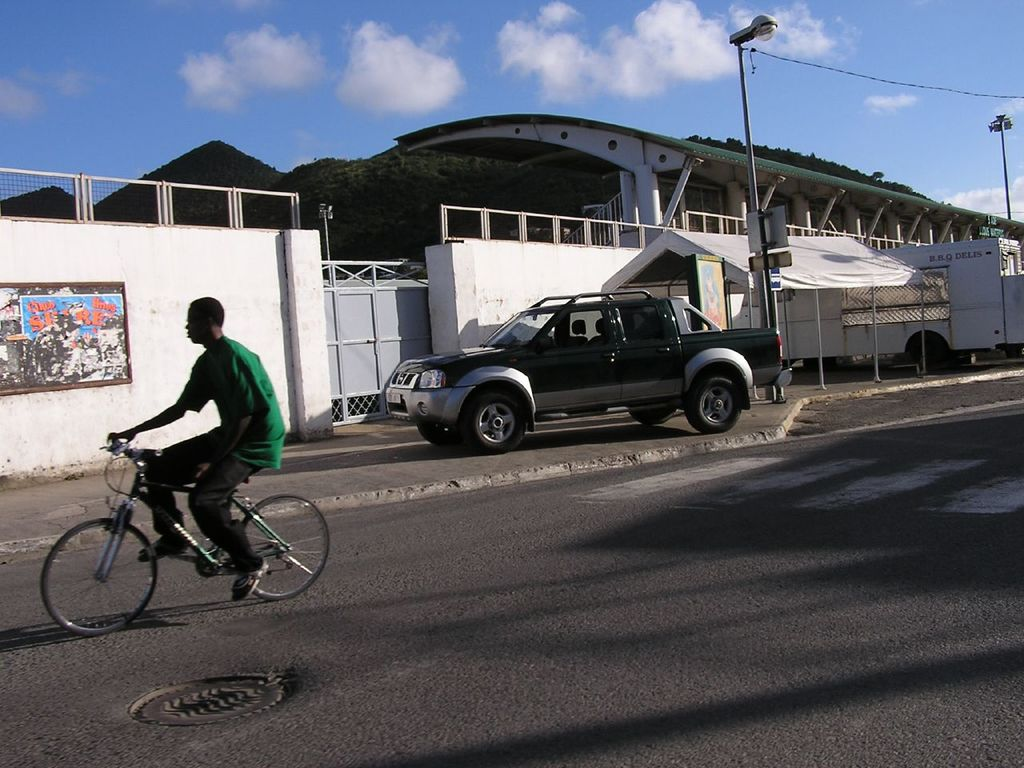Bike_away: (37, 434, 332, 634)
